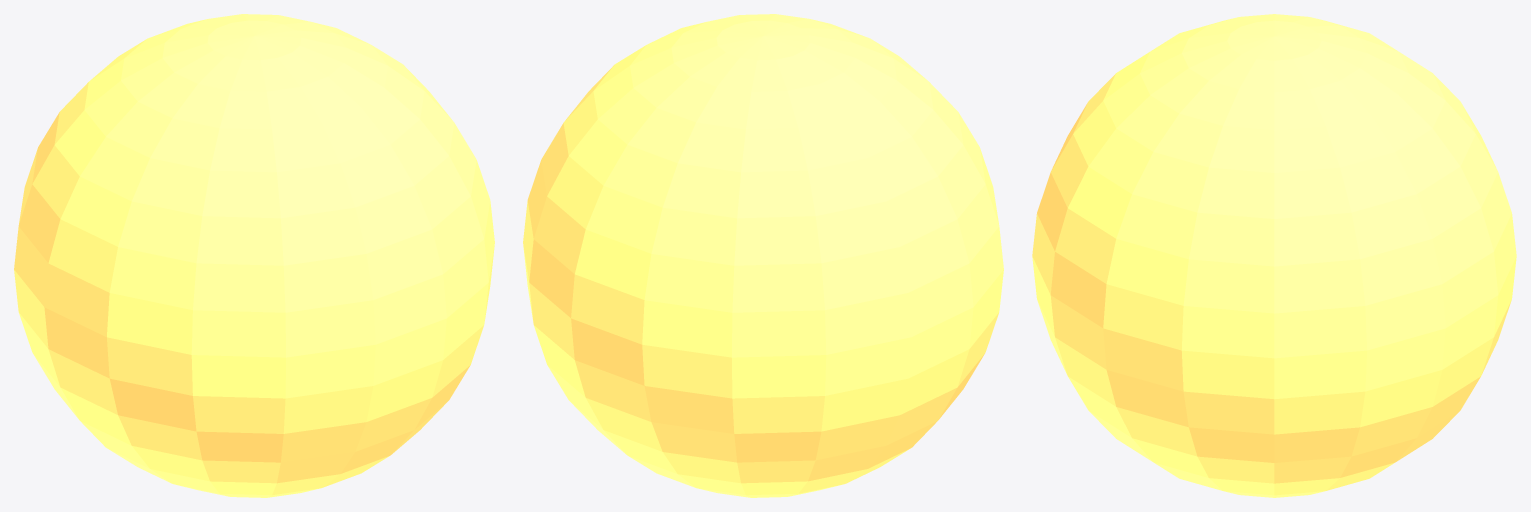
Rendered from Bullet.glb.
The picture shows the model from 3 angles, left to right: view 1: azimuth 30°, elevation 25°; view 2: azimuth 150°, elevation 25°; view 3: azimuth 270°, elevation 25°; orthographic projection.
Parts seen in each view (by area): view 1: Bullet; view 2: Bullet; view 3: Bullet.
Part boxes in pixels (<box>): Bullet: <box>14,14,494,497</box>; Bullet: <box>523,14,1003,497</box>; Bullet: <box>1032,14,1516,497</box>.
Bounding box in the file's own units: 0.3 × 0.3 × 0.3.
Materials: 1 (1 with a texture image).
